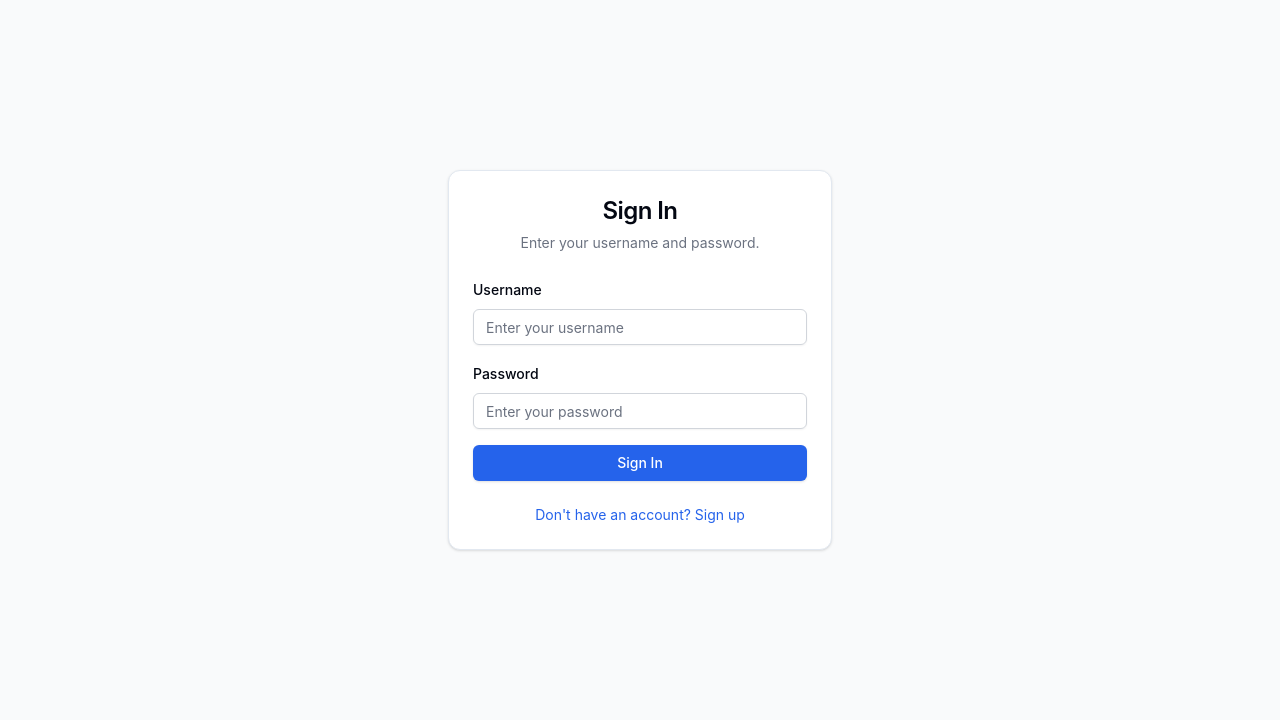
SignIn Page › handles successful sign in, shows toast and redirects
In the field labelled "Username": (640,327) [473,309,807,345], type "testuser"
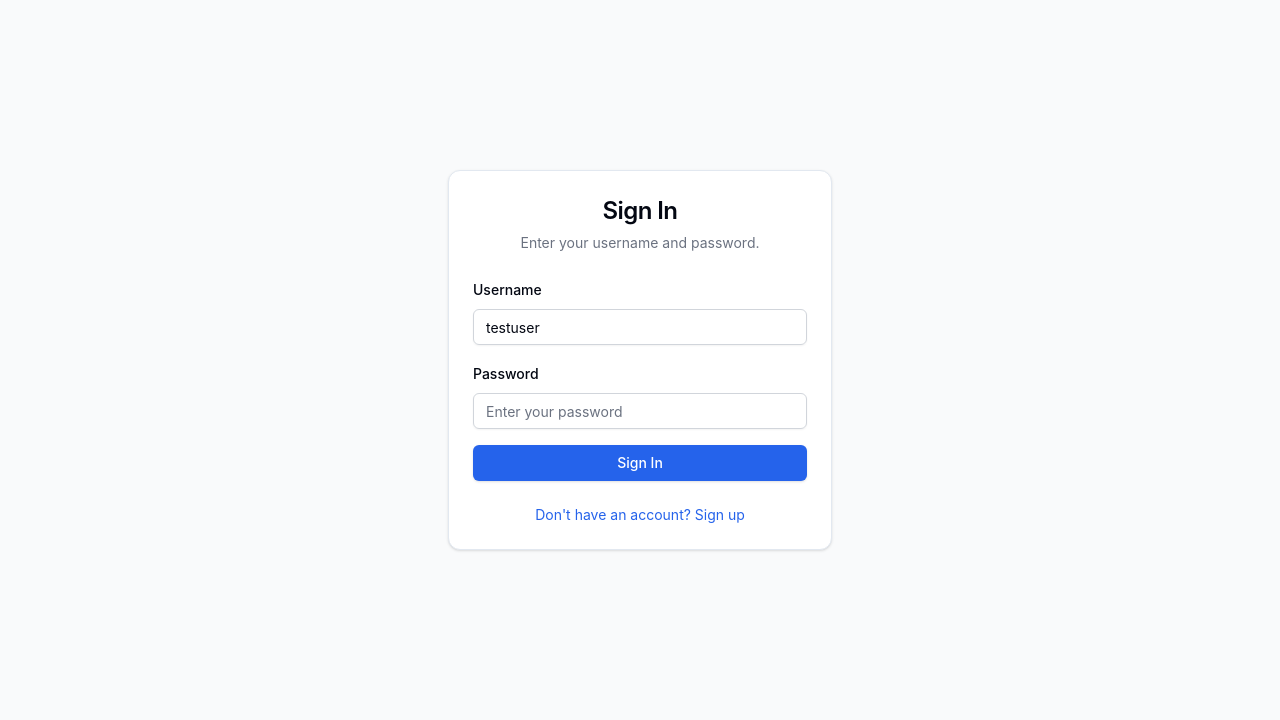
In the password field labelled "Password": (640,411) [473,393,807,429], type "password123"
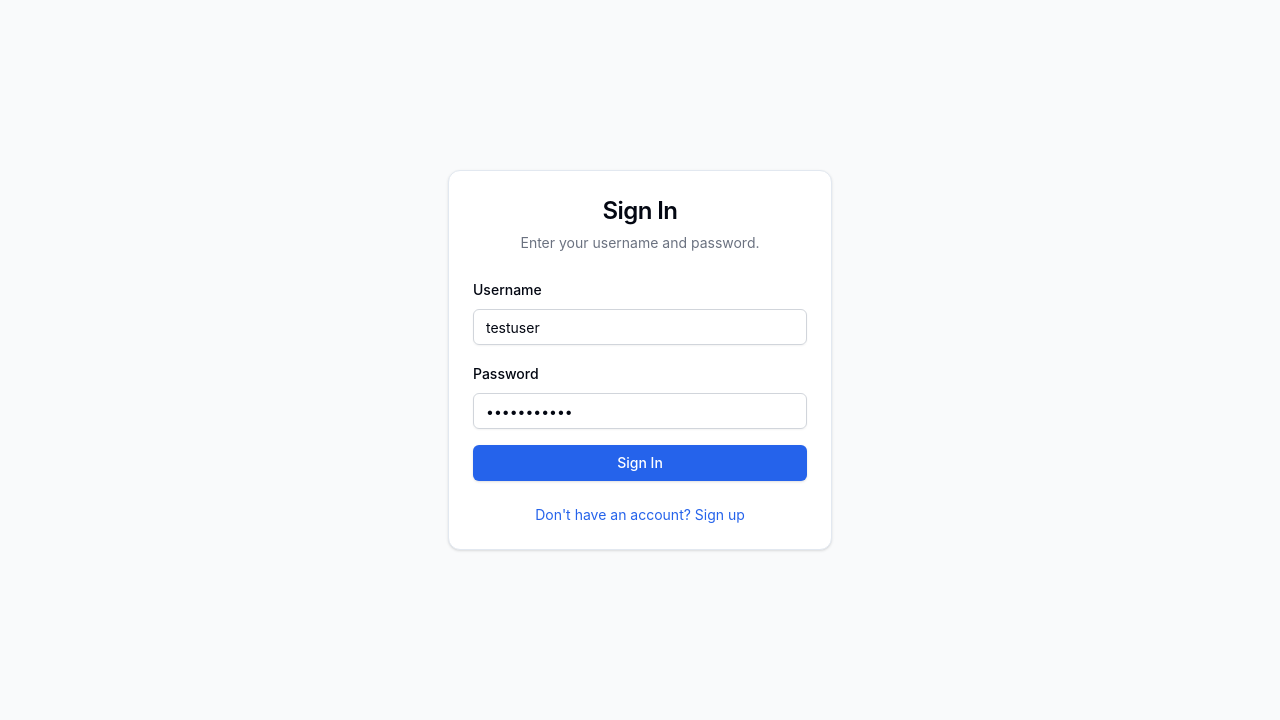
Click the button "Sign In": (640,463) [473,445,807,481]
Wait 2000 ms
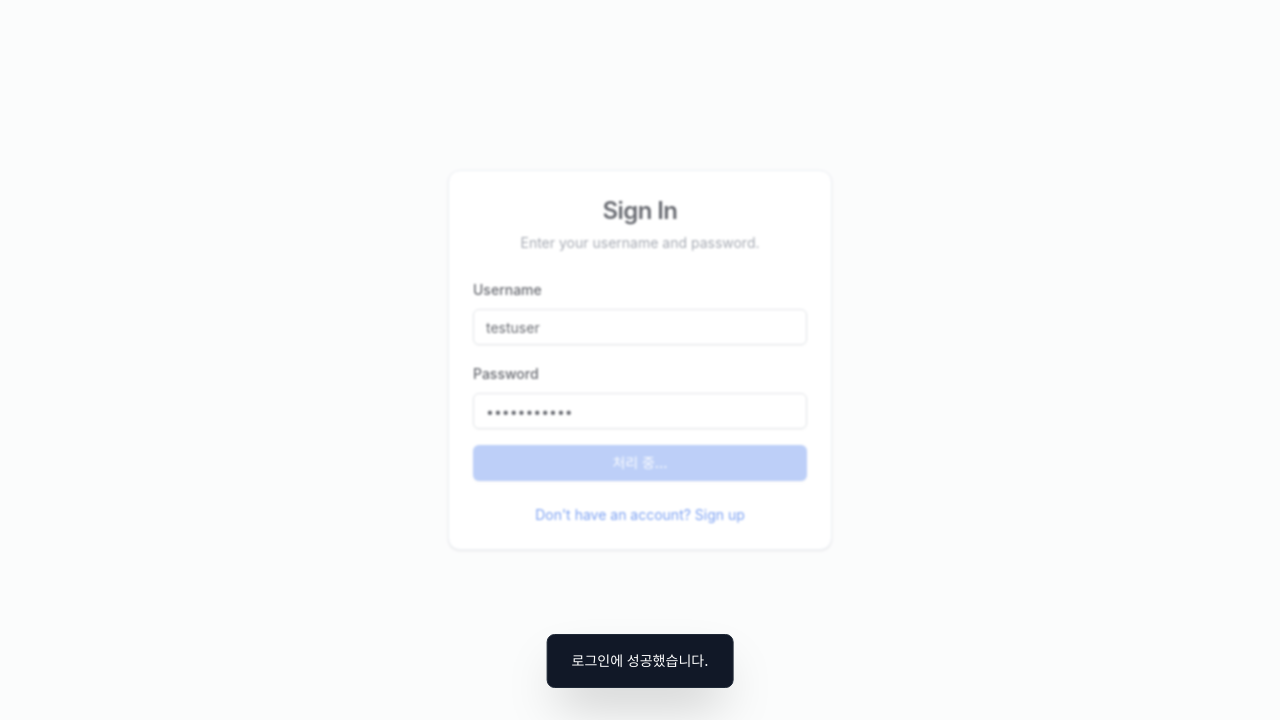
Expected: the text "로그인에 성공했습니다." is shown, [547,634,733,688]
